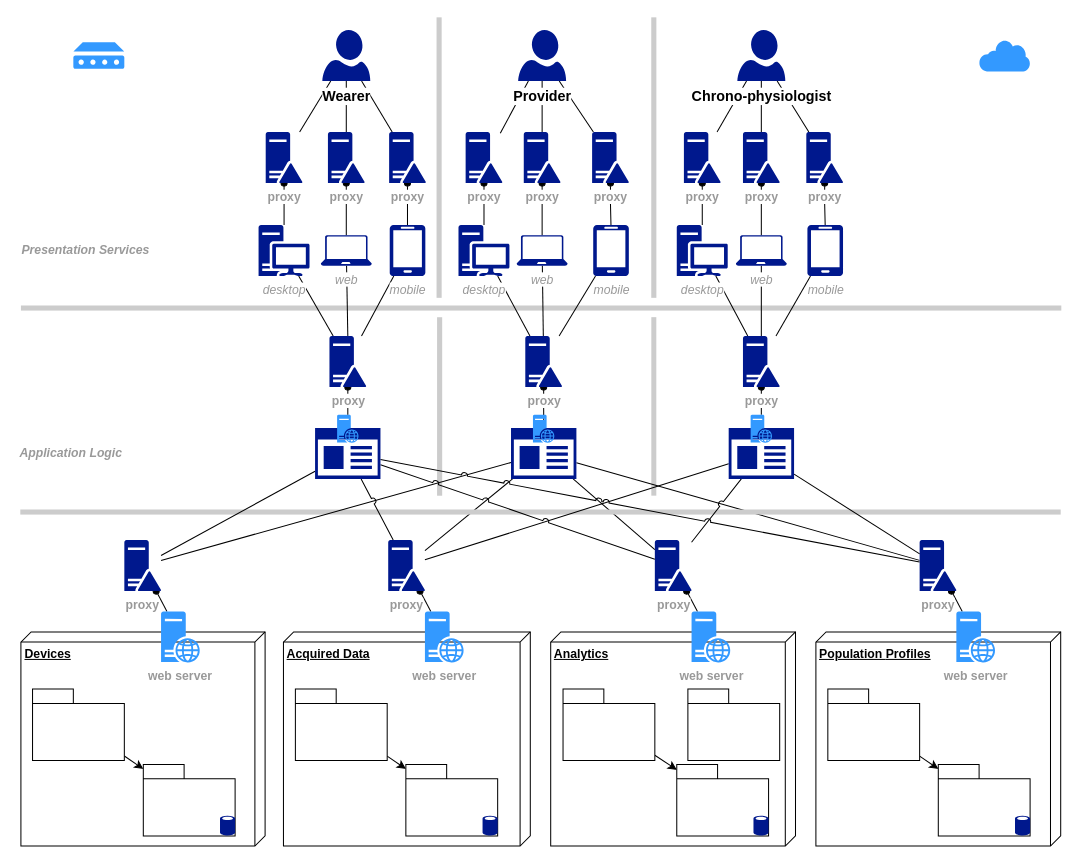
Image size: 1079x864. Some labels were removed from this diagram. Here are the shapes that lost their labels. From the top down, the box of each, then its label:
(73, 42, 124, 68): Ambulatory Blood Pressure Monitors
(979, 39, 1030, 71): Person Identity Management
(315, 427, 380, 478): Wearer Application
(511, 427, 576, 478): Provider Application
(728, 427, 794, 478): Chrono-physiologist Application
(32, 688, 124, 761): Device Services
(294, 688, 387, 761): Acquired Data Services
(562, 688, 655, 761): Analysis & Report Services
(687, 688, 780, 761): Computation Services
(827, 688, 920, 761): Profile Services
(142, 763, 235, 836): Device Registry
(405, 763, 498, 836): Acquired Data Archive
(676, 763, 769, 836): Report Archive
(937, 763, 1030, 836): Profile Archive
